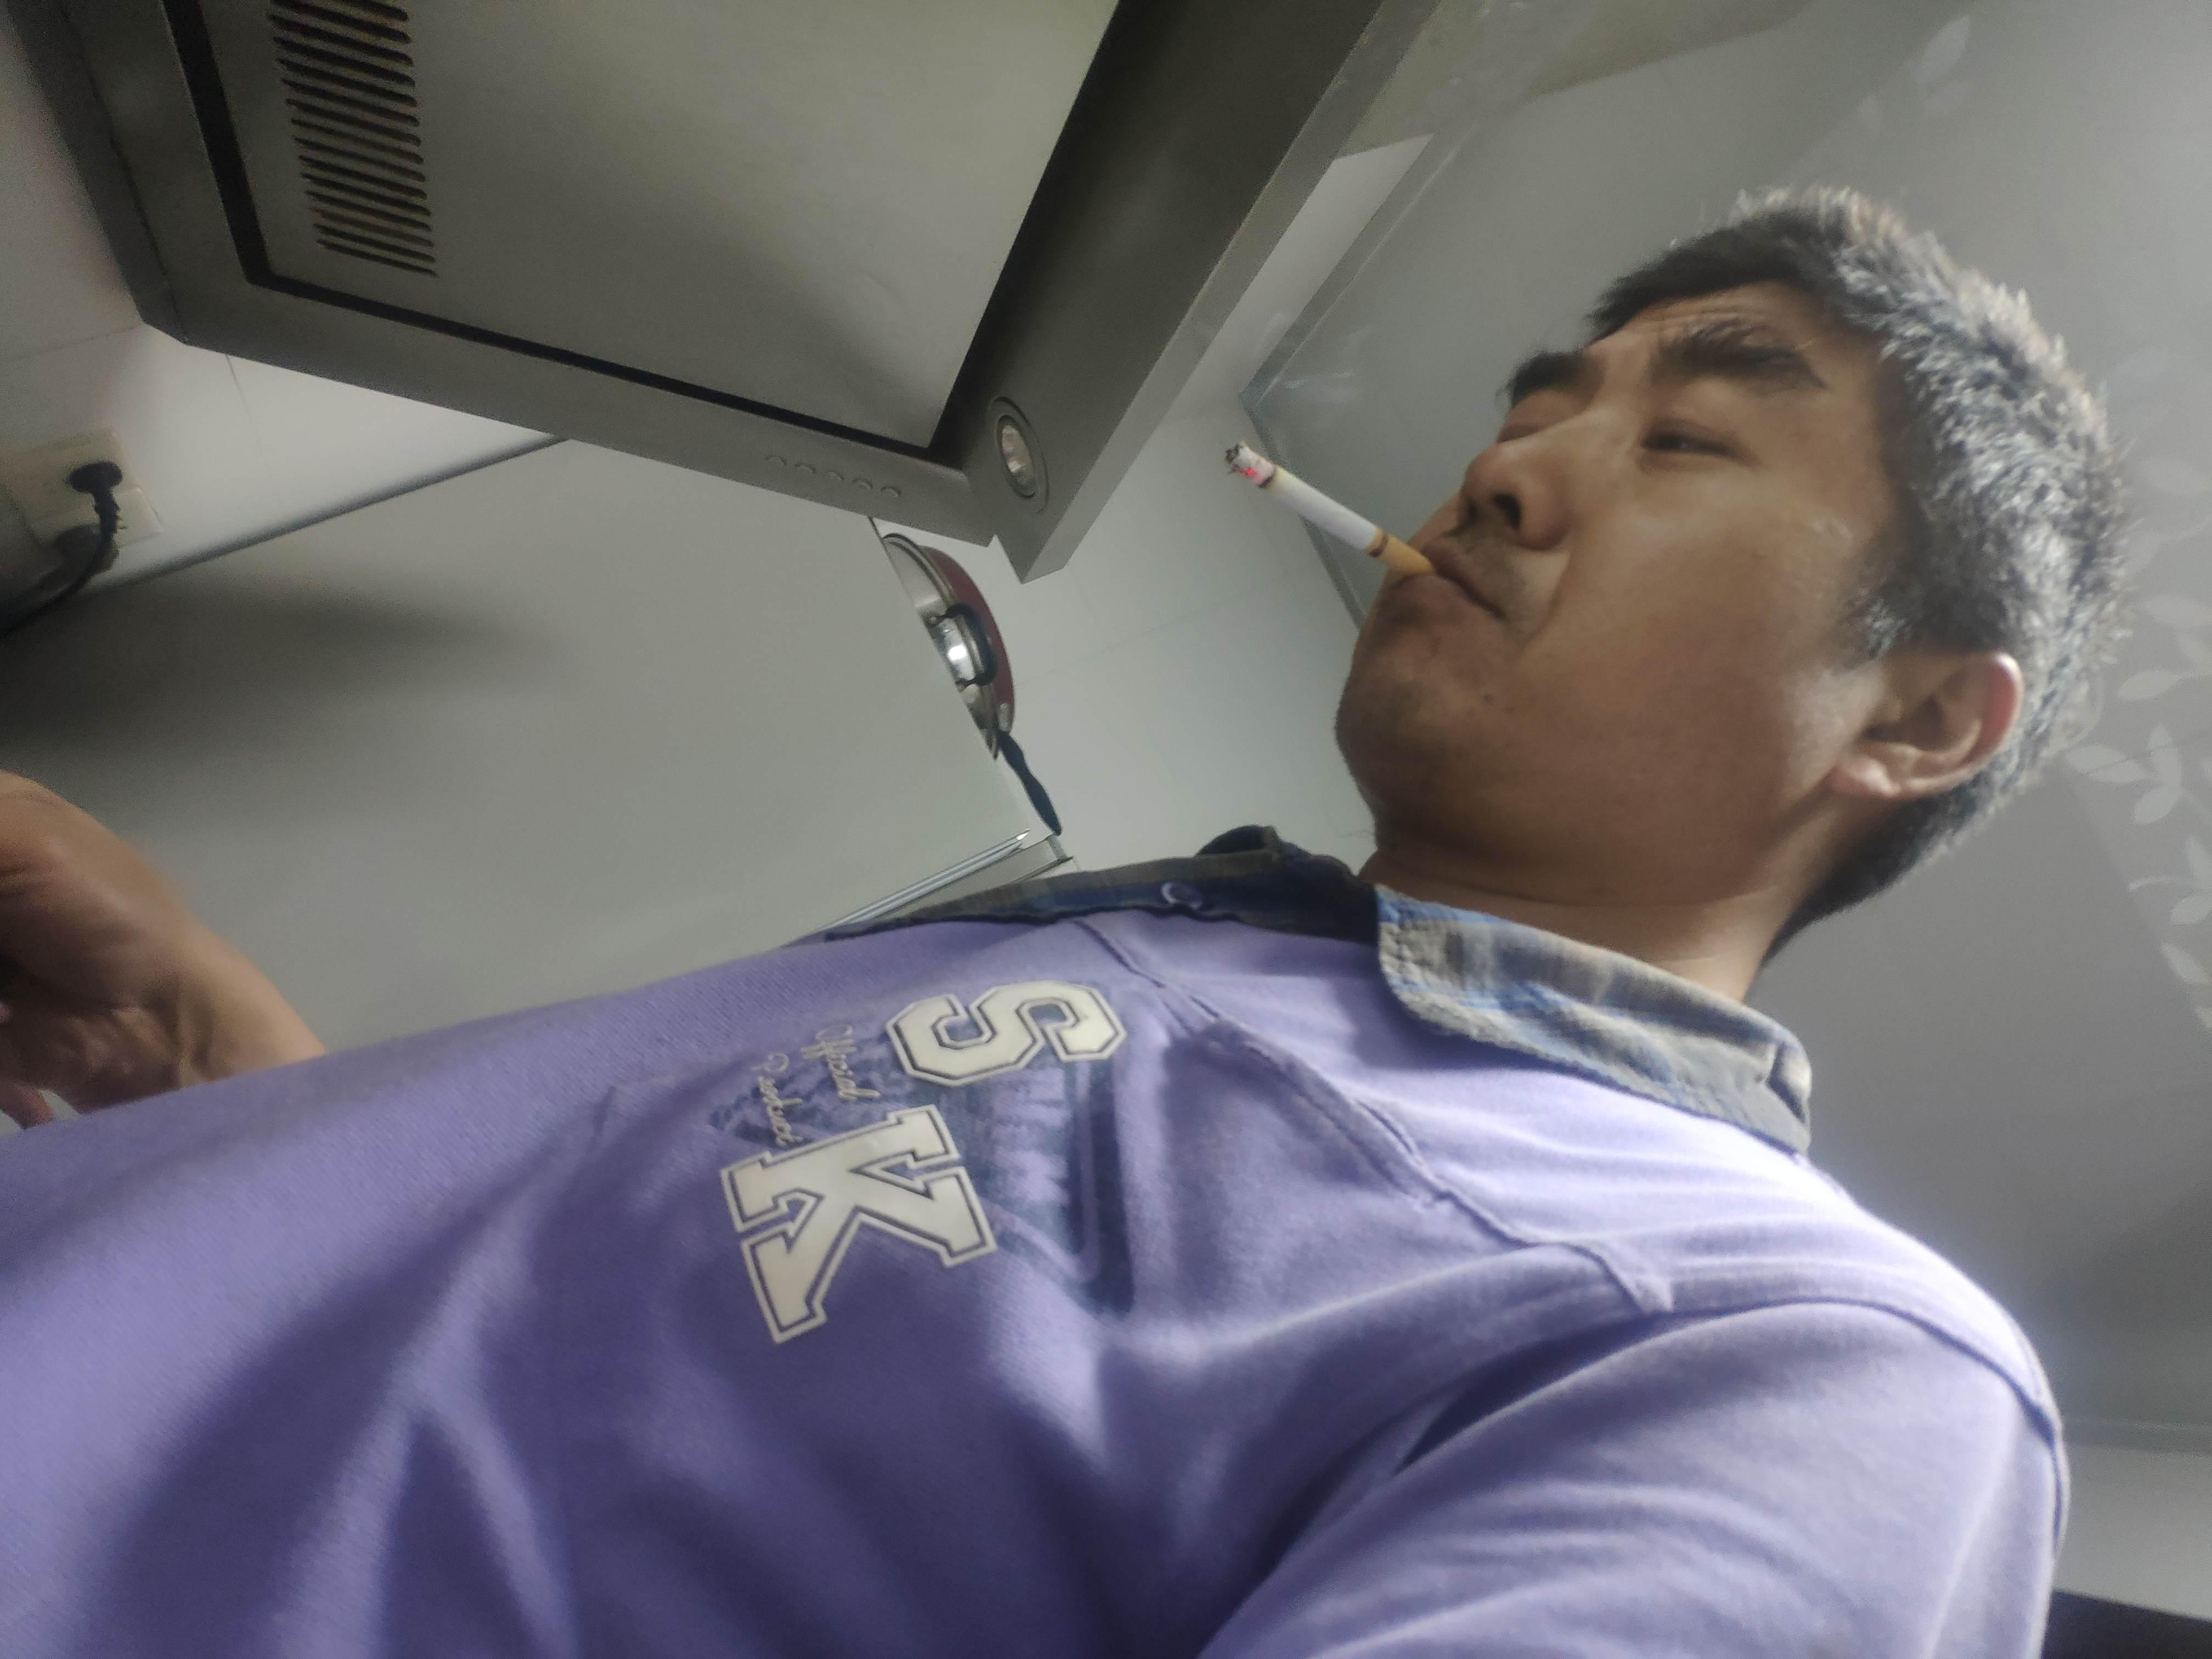smoke: (1223, 439, 1437, 582)
